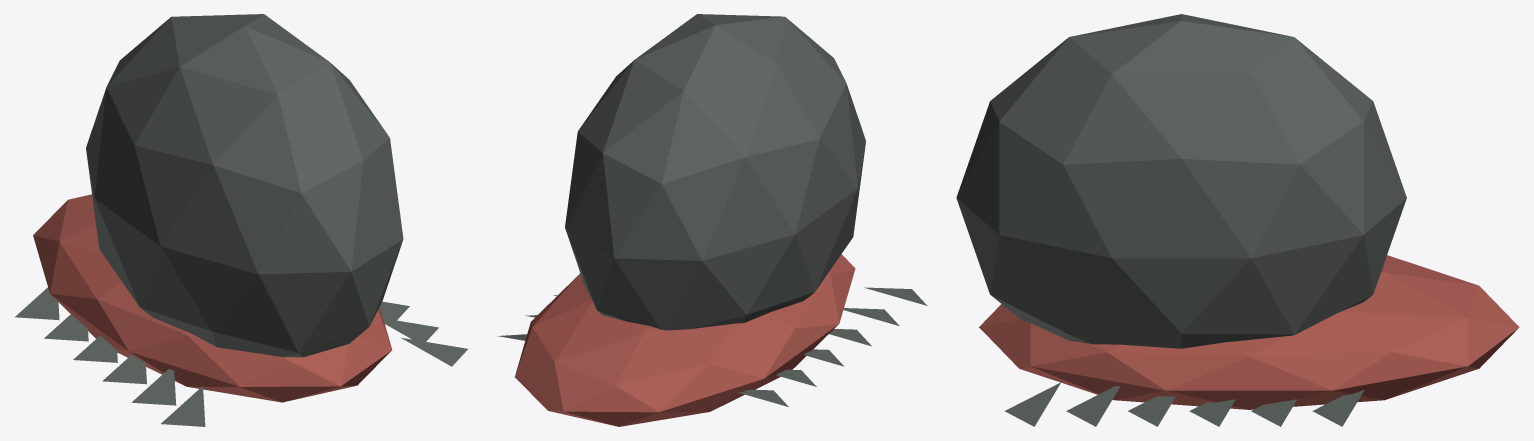
Rendered from FootSnail.fbx.
3 views of the same model, side by side, from view 1: azimuth 30°, elevation 25°; view 2: azimuth 150°, elevation 25°; view 3: azimuth 270°, elevation 25° (orthographic). The views are drawn at different scales.
Visible parts, largest first — view 1: Shell, Body, FootScale1_5, FootScale1_4, FootScale1_0, FootScale1_3, FootScale-1_5, FootScale1_2, FootScale1_1, FootScale-1_4; view 2: Shell, Body, FootScale1_5, FootScale1_4; view 3: Shell, Body, FootScale-1_5, FootScale-1_4, FootScale-1_0, FootScale-1_3, FootScale-1_2, FootScale-1_1.
Part boxes in pixels (box(x1,y1,x2,y2)): Shell: box(86, 14, 403, 357); Body: box(33, 194, 392, 402); FootScale1_5: box(161, 386, 205, 426); FootScale1_4: box(131, 369, 176, 405); FootScale1_0: box(15, 287, 59, 320); FootScale1_3: box(102, 355, 146, 384); FootScale-1_5: box(401, 337, 467, 366); FootScale1_2: box(73, 335, 117, 362); FootScale1_1: box(44, 314, 88, 341); FootScale-1_4: box(383, 318, 438, 341); Shell: box(565, 14, 865, 330); Body: box(515, 254, 855, 426); FootScale1_5: box(864, 287, 927, 305); FootScale1_4: box(843, 308, 899, 326); Shell: box(956, 14, 1406, 348); Body: box(979, 255, 1519, 409); FootScale-1_5: box(1005, 382, 1060, 426); FootScale-1_4: box(1066, 386, 1120, 426); FootScale-1_0: box(1312, 390, 1364, 426); FootScale-1_3: box(1128, 396, 1175, 426); FootScale-1_2: box(1189, 399, 1235, 426); FootScale-1_1: box(1251, 399, 1297, 426).
Bounding box in the file's own units: 0.25 × 0.263 × 0.375.
